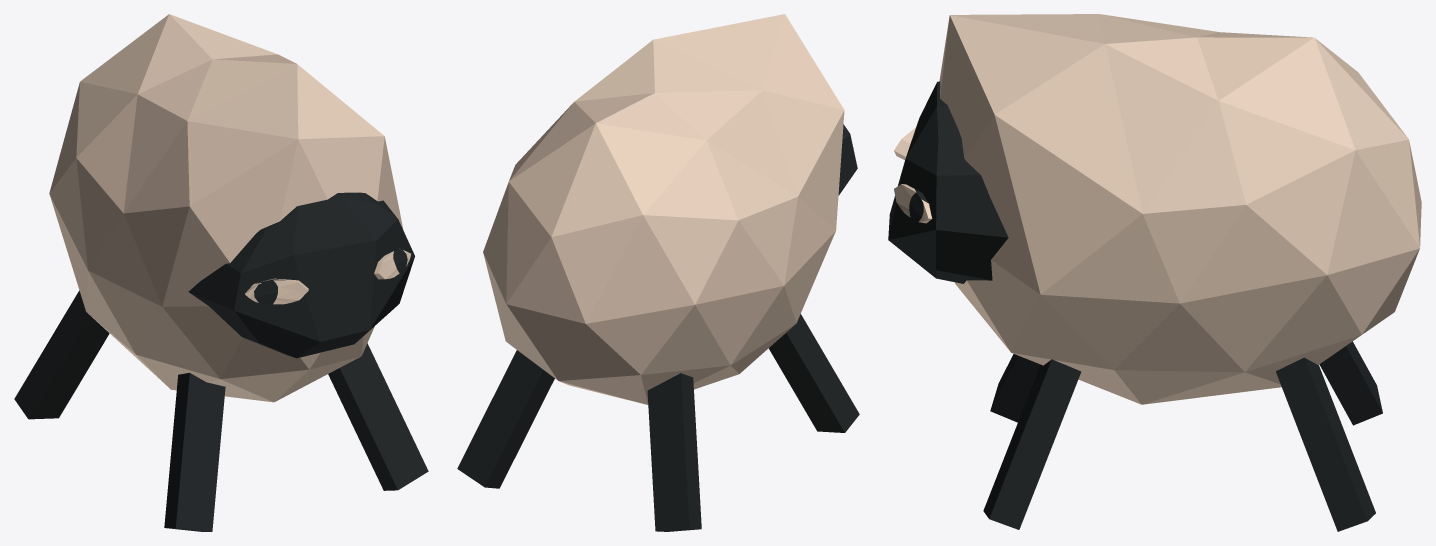
Rendered from sheep.fbx.
3 views of the same model, side by side, from view 1: azimuth 30°, elevation 25°; view 2: azimuth 150°, elevation 25°; view 3: azimuth 270°, elevation 25° (orthographic). The views are drawn at different scales.
Visible parts, largest first — view 1: Cube; view 2: Cube; view 3: Cube.
Part boxes in pixels (x1,y1,x2,y2): Cube: [14, 14, 428, 531]; Cube: [457, 14, 859, 531]; Cube: [888, 14, 1421, 531].
Size of the model in its own units: 126 by 183 by 196.
